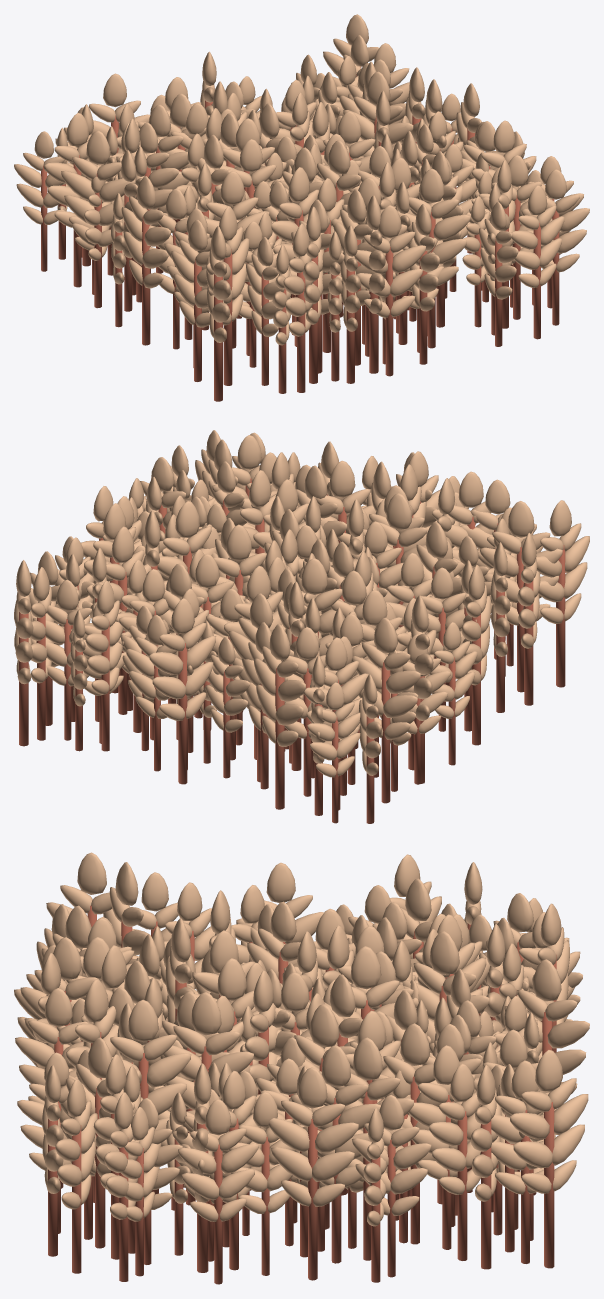
File: Wheat_Middle.fbx
3 views of the same model, one above another, from view 1: azimuth 30°, elevation 25°; view 2: azimuth 150°, elevation 25°; view 3: azimuth 270°, elevation 25° (orthographic). The views are drawn at different scales.
Visible parts, largest first — view 1: Wheat_Middle; view 2: Wheat_Middle; view 3: Wheat_Middle.
Part boxes in pixels (x1,y1,x2,y2): Wheat_Middle: (14, 14, 589, 401); Wheat_Middle: (14, 430, 589, 823); Wheat_Middle: (14, 852, 589, 1284).
Size of the model in its own units: 106 by 46.53 by 107.
